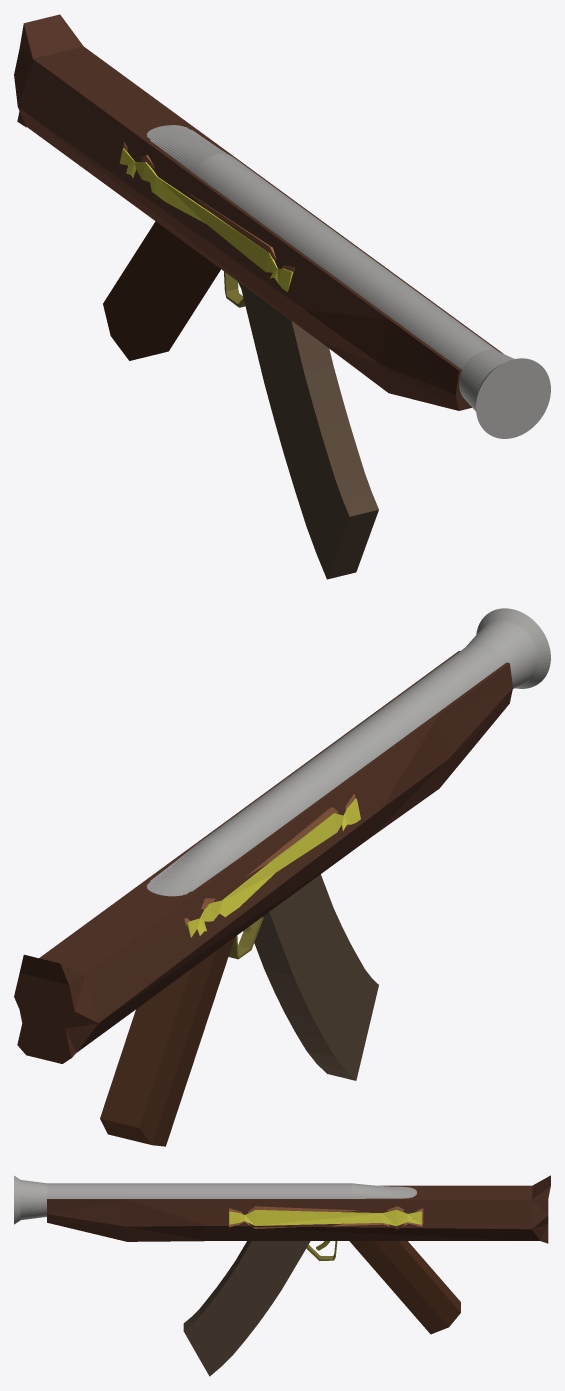
The model's file is pirategun.dae.
3 views of the same model, one above another, from view 1: azimuth 30°, elevation 25°; view 2: azimuth 150°, elevation 25°; view 3: azimuth 270°, elevation 25° (orthographic). The views are drawn at different scales.
Visible parts, largest first — view 1: GunBody, GunPipe, Magazine, Handle, RightSideDecoration; view 2: GunBody, GunPipe, Magazine, Handle, RightSideDecoration; view 3: GunBody, Magazine, GunPipe, Handle, LeftSideDecoration.
Part boxes in pixels (x1,y1,x2,y2): GunBody: (14, 14, 503, 410); GunPipe: (146, 125, 550, 438); Magazine: (240, 283, 378, 579); Handle: (103, 221, 220, 360); RightSideDecoration: (119, 142, 294, 291); GunBody: (14, 651, 512, 1063); GunPipe: (146, 608, 550, 896); Magazine: (254, 874, 378, 1080); Handle: (100, 937, 234, 1146); RightSideDecoration: (183, 794, 360, 937); GunBody: (47, 1175, 550, 1243); Magazine: (183, 1241, 310, 1376); GunPipe: (14, 1175, 416, 1224); Handle: (349, 1241, 460, 1334); LeftSideDecoration: (229, 1206, 423, 1229).
Size of the model in its own units: 0.1273 by 1.28 by 0.5142.
